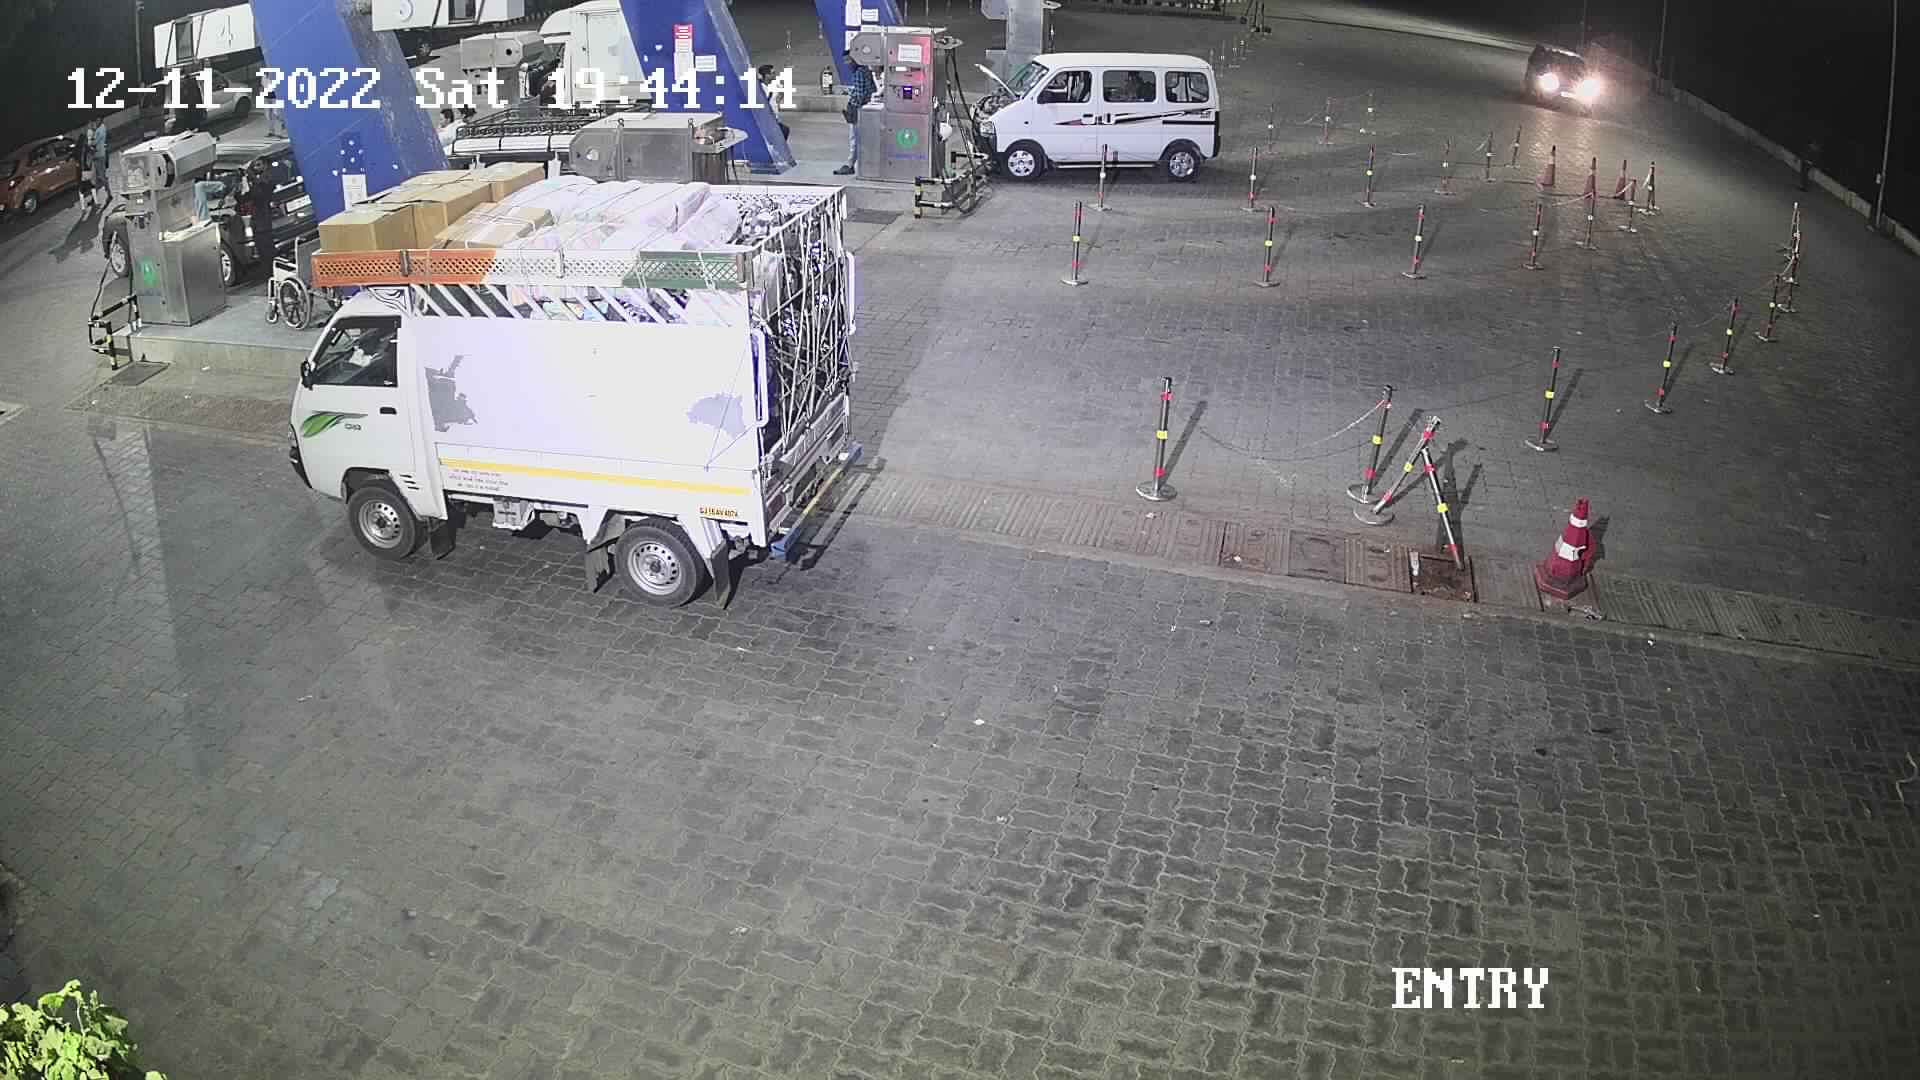Car: (280, 152, 876, 624), (969, 29, 1233, 196), (189, 140, 322, 291), (518, 0, 665, 117), (127, 61, 262, 146), (1, 123, 104, 225), (1518, 32, 1621, 133)
